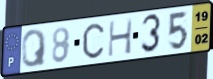3: (138, 12, 165, 56)
5: (166, 9, 190, 51)
8: (50, 25, 71, 65)
C: (81, 22, 106, 60)
H: (107, 17, 135, 59)
Q: (20, 28, 48, 69)
